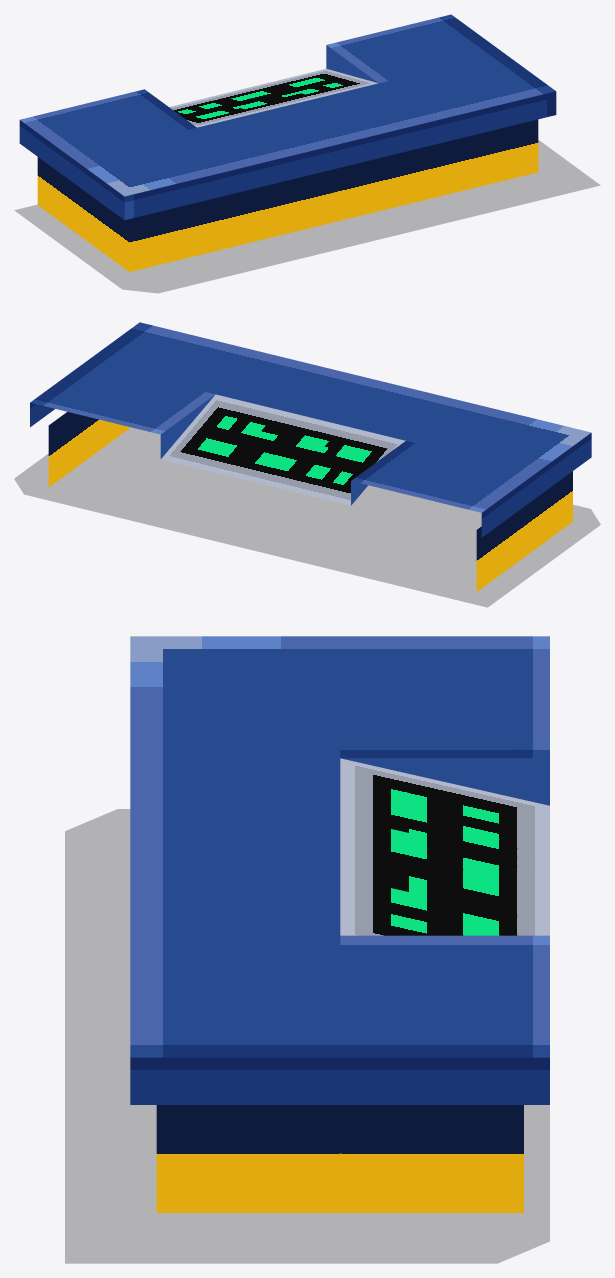
3 renders of one model, top to bottom at view 1: azimuth 30°, elevation 25°; view 2: azimuth 150°, elevation 25°; view 3: azimuth 270°, elevation 25°, orthographic. The views are drawn at different scales.
Parts seen in each view (by area): view 1: 01_polygon0, 00_polygon1; view 2: 01_polygon0, 00_polygon1; view 3: 01_polygon0, 00_polygon1.
Boxes of the visible parts, left/top/right/bottom form: 01_polygon0: left=19, top=14, right=556, bottom=271; 00_polygon1: left=15, top=140, right=600, bottom=292; 01_polygon0: left=30, top=322, right=591, bottom=591; 00_polygon1: left=14, top=427, right=600, bottom=607; 01_polygon0: left=130, top=636, right=549, bottom=1212; 00_polygon1: left=65, top=809, right=549, bottom=1263.
Bounding box in the file's own units: 0.6406 × 0.1172 × 0.2891.
Materials: 2 (2 with a texture image).
